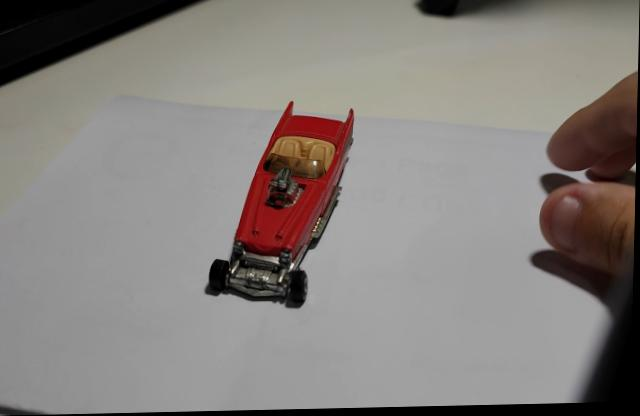03_V8: (206, 104, 358, 311)
